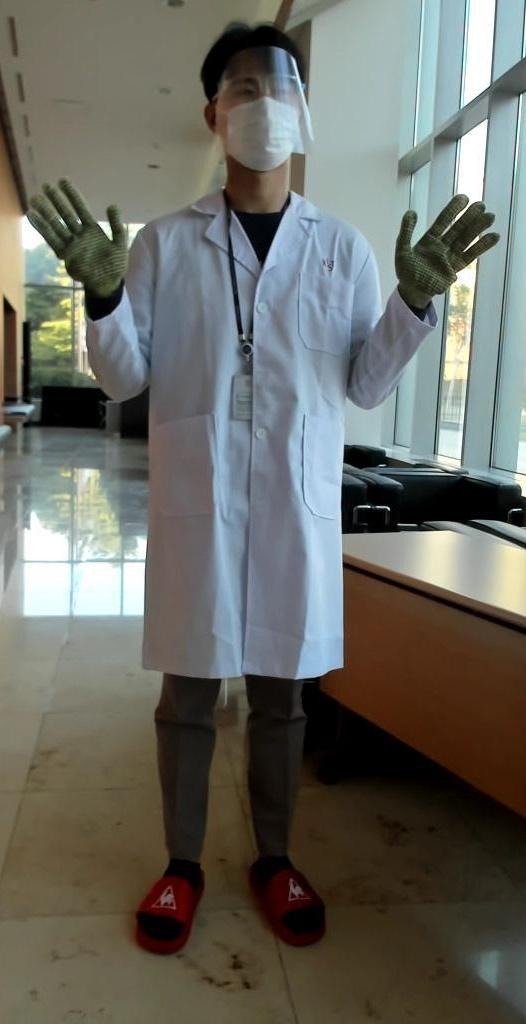lab_coat: (138, 224, 380, 690)
